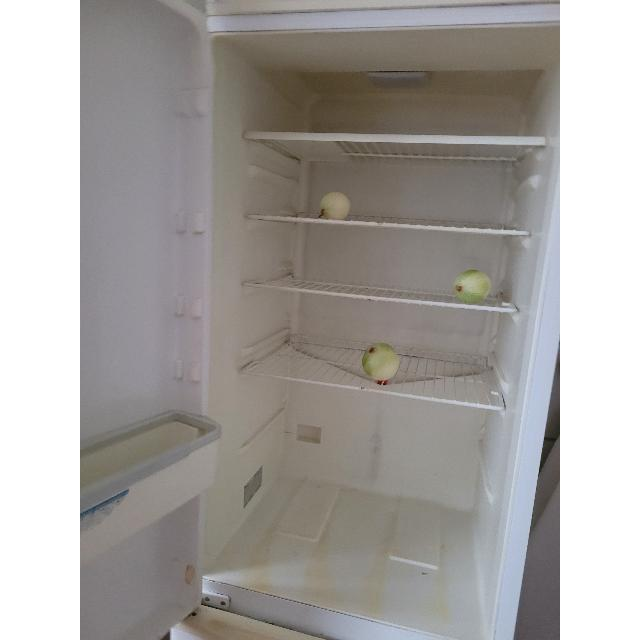onion: (362, 342, 401, 381), (453, 268, 491, 304), (318, 191, 352, 221)
